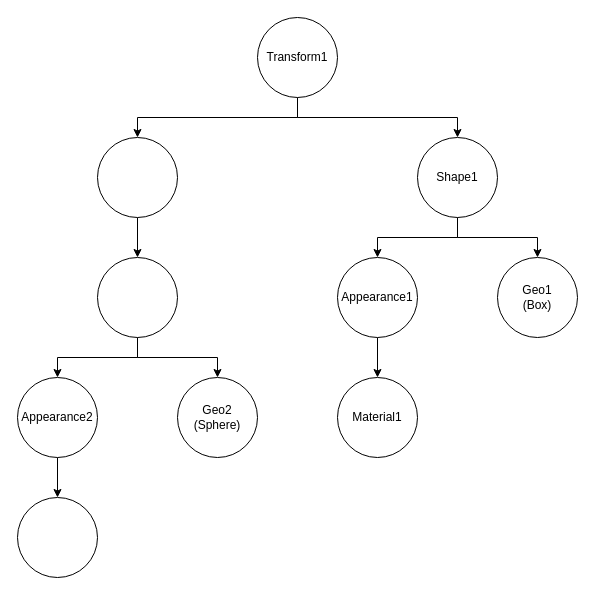
This 595x595 diagram has some shape labels left out. Here are the shapes that lost their labels. From the top down, the centre of each, then its label:
(137,177): Transform2
(137,297): Shape2
(57,537): Material2
